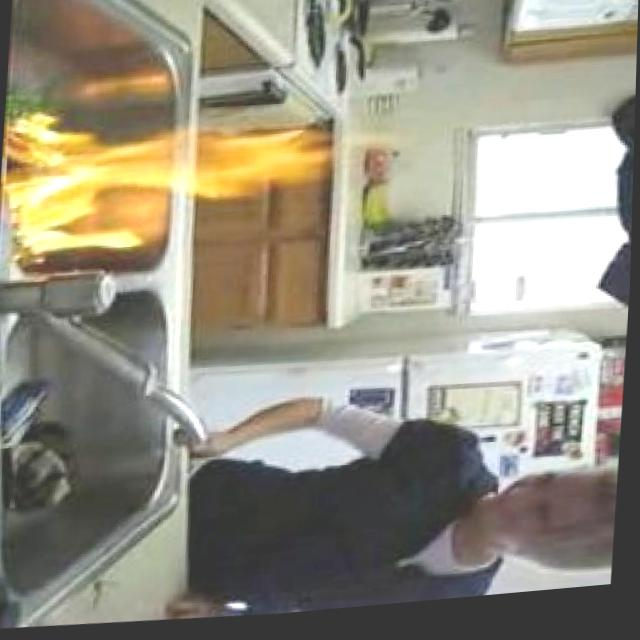Fire: (4, 89, 342, 269)
